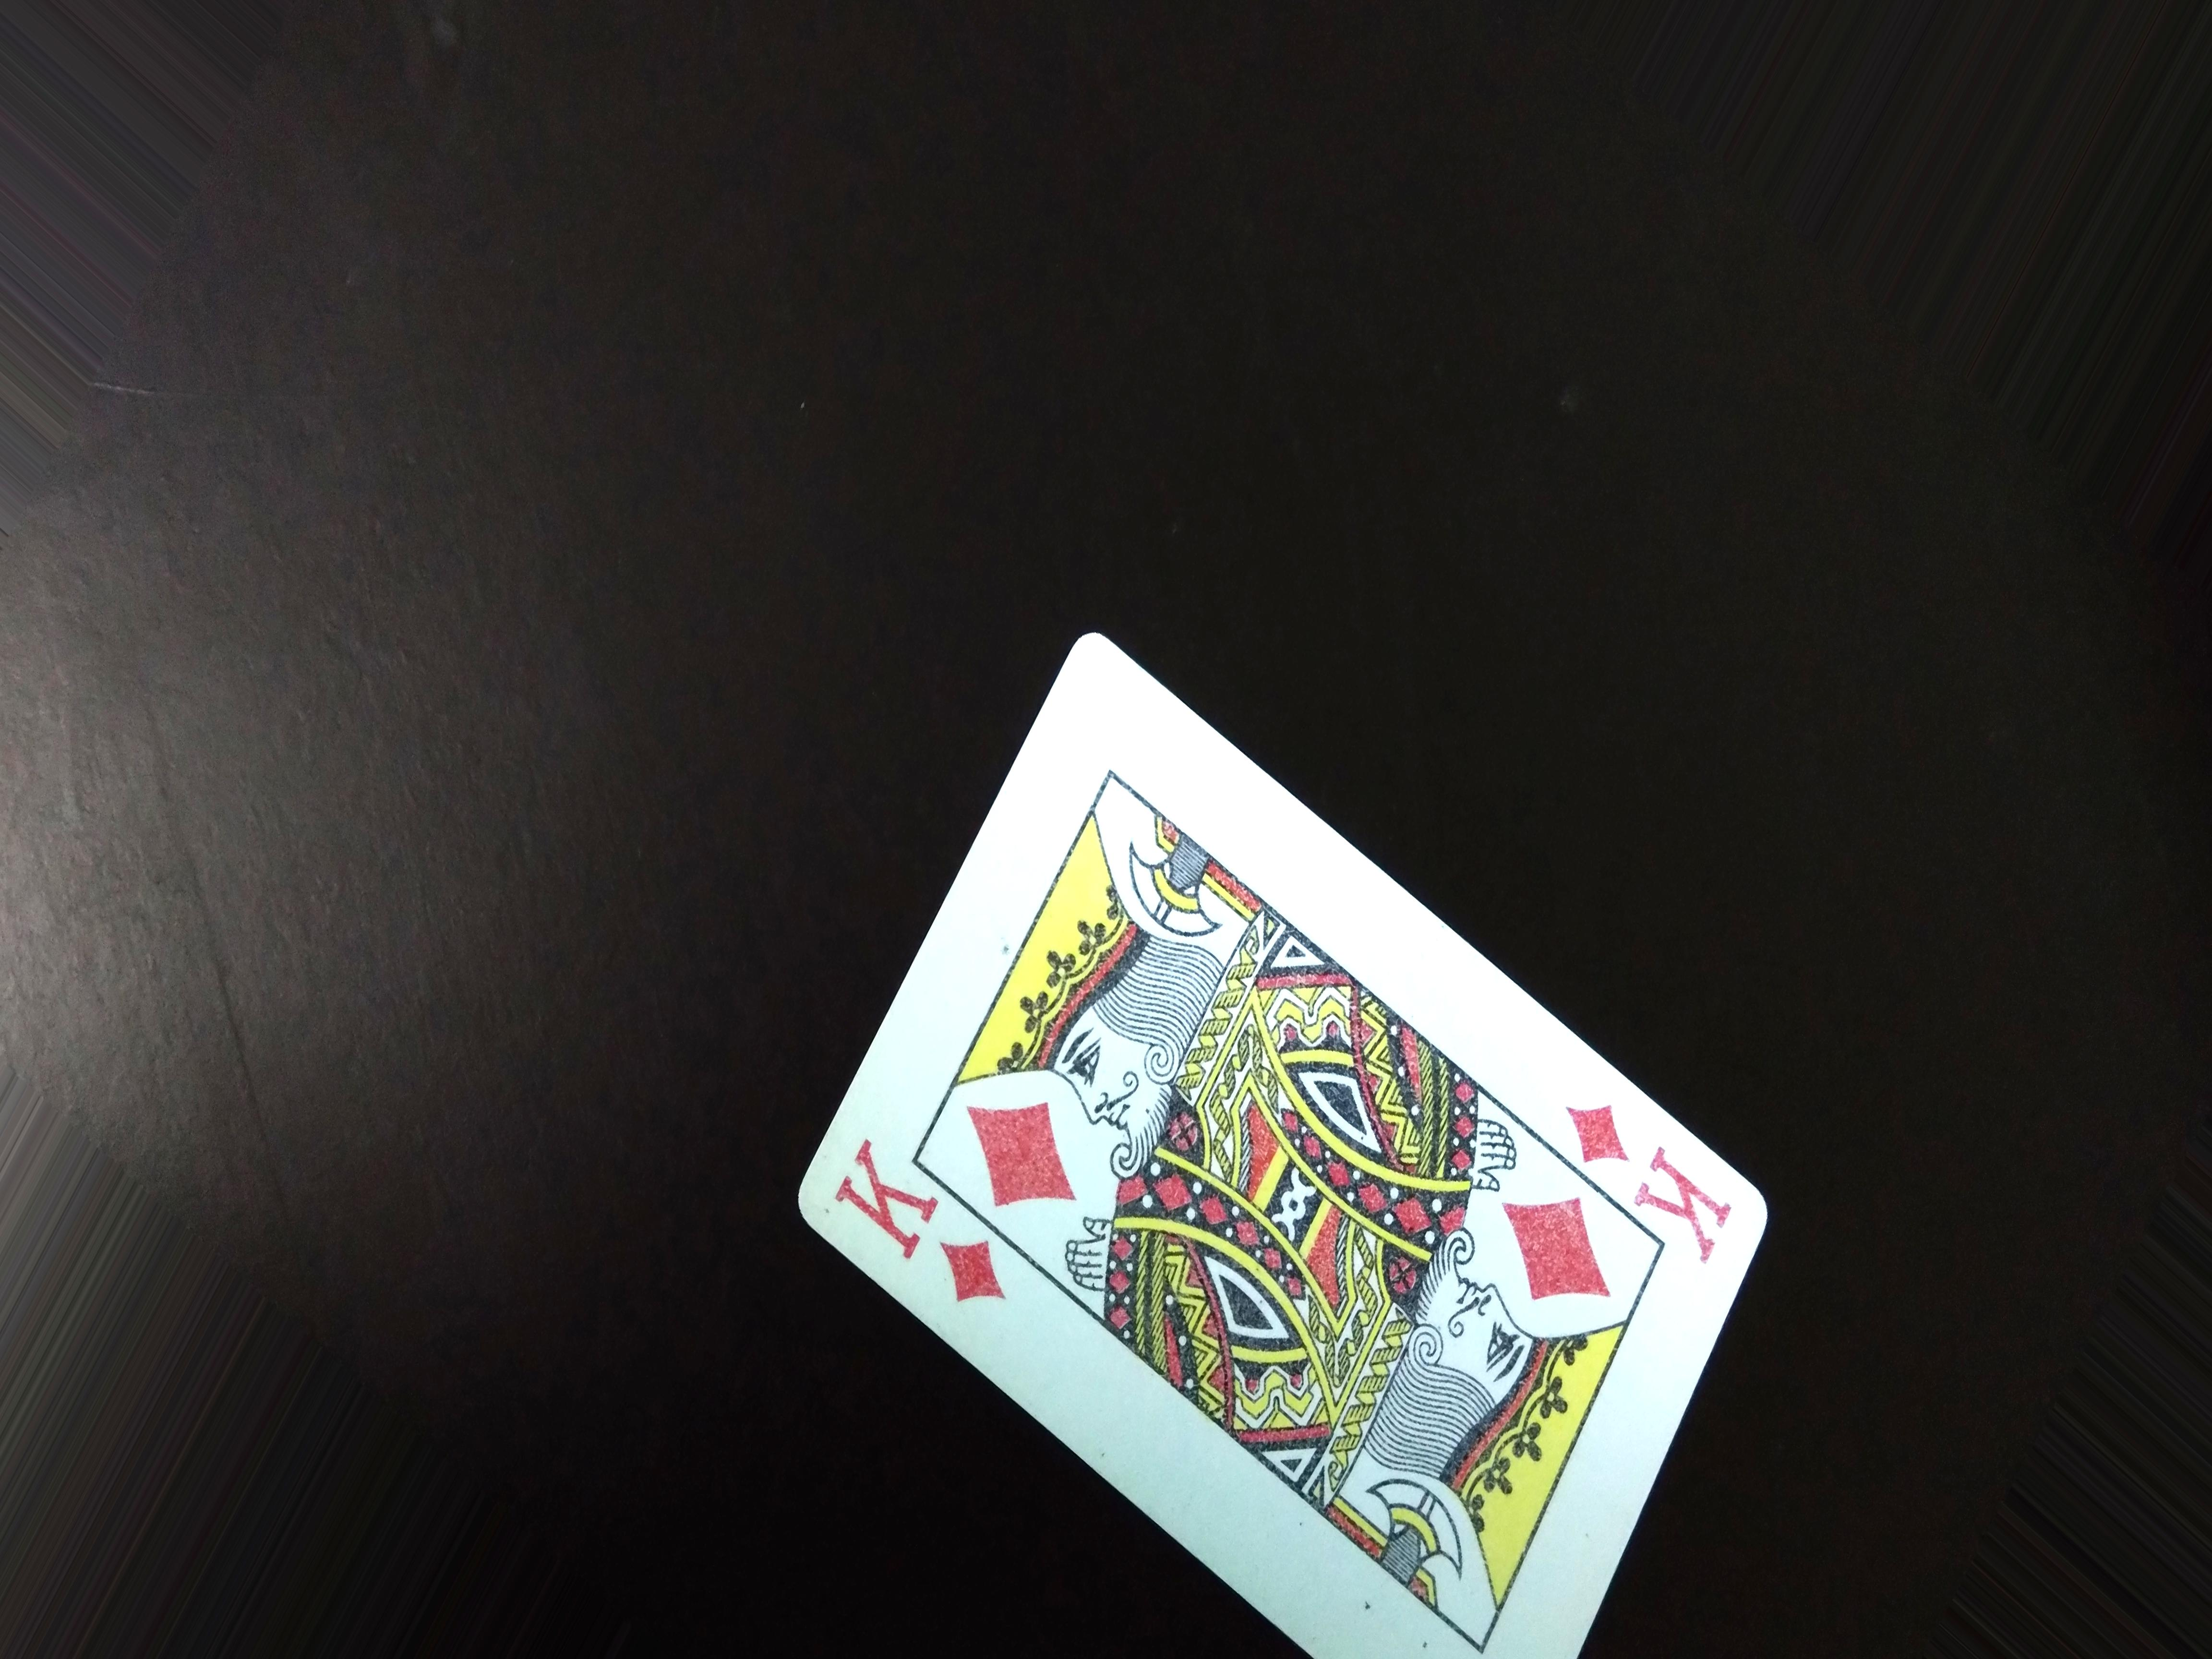KD: (833, 1143, 1001, 1331)
